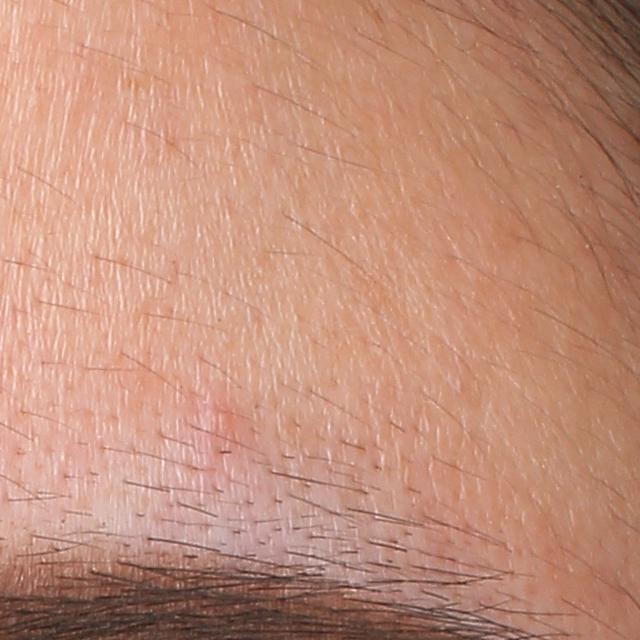papule: (186, 395, 237, 443)
